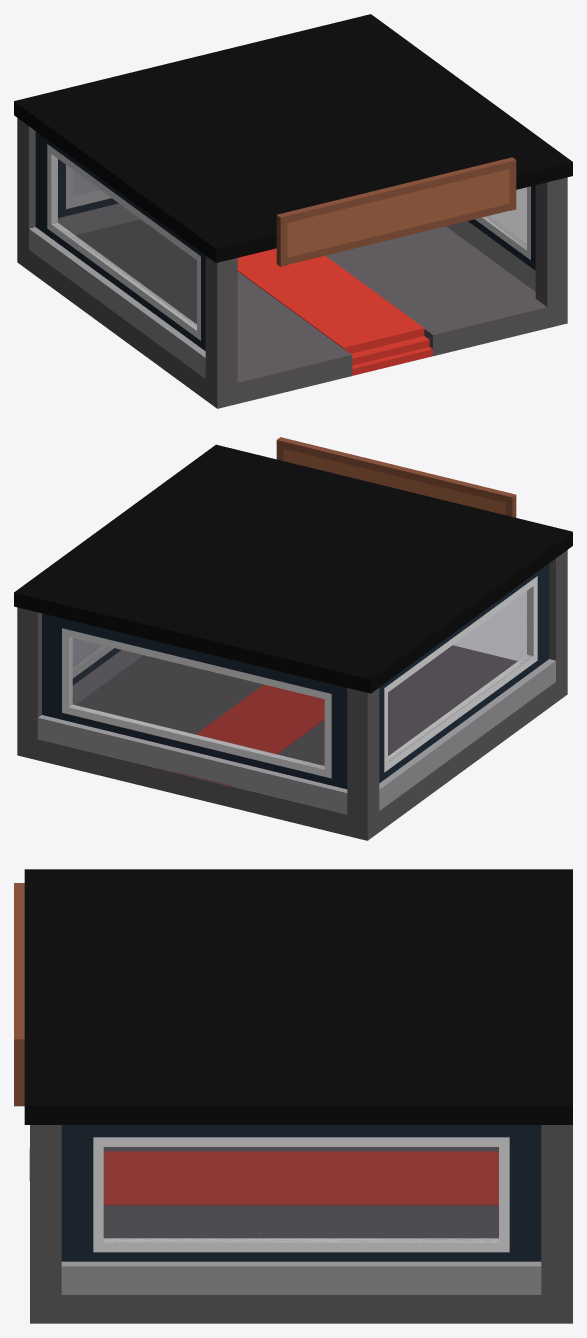
File: Base1floor.glb
3 renders of one model, top to bottom at view 1: azimuth 30°, elevation 25°; view 2: azimuth 150°, elevation 25°; view 3: azimuth 270°, elevation 25°, orthographic. The views are drawn at different scales.
Visible parts, largest first — view 1: BaseTop, BaseFoundation, Windows, RedCarpet, BaseFoundationPillars, UnderWindow, BaseNameInner, WindowsFrame, WindowsOuterFrame, BaseNameOuter; view 2: BaseTop, Windows, BaseFoundation, UnderWindow, WindowsOuterFrame, WindowsFrame, BaseFoundationPillars, RedCarpet, BaseNameOuter, BaseNameInner; view 3: BaseTop, Windows, BaseFoundation, RedCarpet, WindowsOuterFrame, UnderWindow, WindowsFrame, BaseFoundationPillars, BaseNameOuter.
Part boxes in pixels (bbox=[...]): BaseTop: bbox=[14, 14, 572, 262]; BaseFoundation: bbox=[17, 219, 567, 408]; Windows: bbox=[51, 155, 526, 330]; RedCarpet: bbox=[237, 248, 432, 375]; BaseFoundationPillars: bbox=[17, 118, 567, 387]; UnderWindow: bbox=[29, 203, 535, 378]; BaseNameInner: bbox=[287, 169, 509, 257]; WindowsFrame: bbox=[47, 144, 530, 340]; WindowsOuterFrame: bbox=[35, 131, 535, 350]; BaseNameOuter: bbox=[276, 157, 516, 266]; BaseTop: bbox=[14, 444, 572, 693]; Windows: bbox=[69, 587, 533, 769]; BaseFoundation: bbox=[17, 645, 567, 840]; UnderWindow: bbox=[38, 650, 555, 814]; WindowsOuterFrame: bbox=[42, 563, 549, 789]; WindowsFrame: bbox=[62, 576, 537, 778]; BaseFoundationPillars: bbox=[17, 550, 567, 819]; RedCarpet: bbox=[159, 684, 324, 786]; BaseNameOuter: bbox=[276, 437, 516, 517]; BaseNameInner: bbox=[283, 448, 505, 515]; BaseTop: bbox=[24, 869, 572, 1124]; Windows: bbox=[104, 1147, 498, 1242]; BaseFoundation: bbox=[29, 1147, 572, 1323]; RedCarpet: bbox=[103, 1151, 498, 1205]; WindowsOuterFrame: bbox=[61, 1125, 541, 1261]; UnderWindow: bbox=[61, 1261, 541, 1294]; WindowsFrame: bbox=[93, 1137, 509, 1252]; BaseFoundationPillars: bbox=[30, 1125, 572, 1294]; BaseNameOuter: bbox=[14, 883, 24, 1106].
Size of the model in its own units: 30.14 by 14.65 by 30.11.
